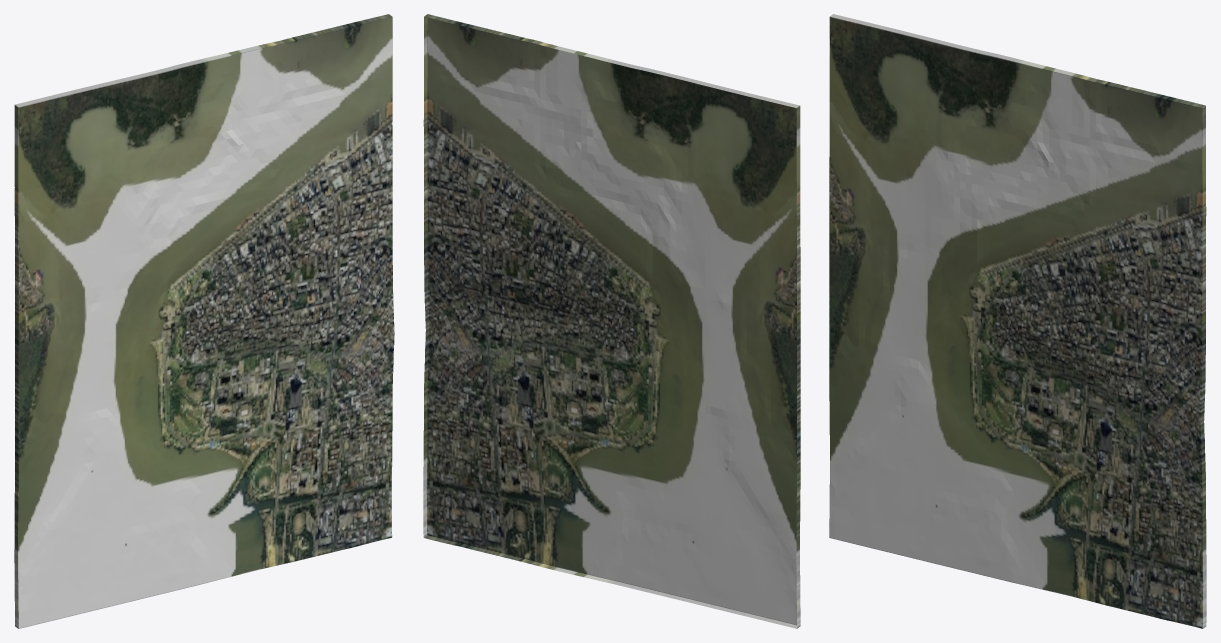
File: saida4.dae
3 views of the same model, side by side, from view 1: azimuth 30°, elevation 25°; view 2: azimuth 150°, elevation 25°; view 3: azimuth 330°, elevation 25° (orthographic).
Visible parts, largest first — view 1: node; view 2: node; view 3: node.
Boxes of the visible parts, x1,y1,x2,y2 form: node: [14, 14, 394, 628]; node: [423, 14, 800, 628]; node: [829, 14, 1206, 628].
Bounding box in the file's own units: 2820 × 3760 × 89.56.
Materials: 1 (1 with a texture image).
